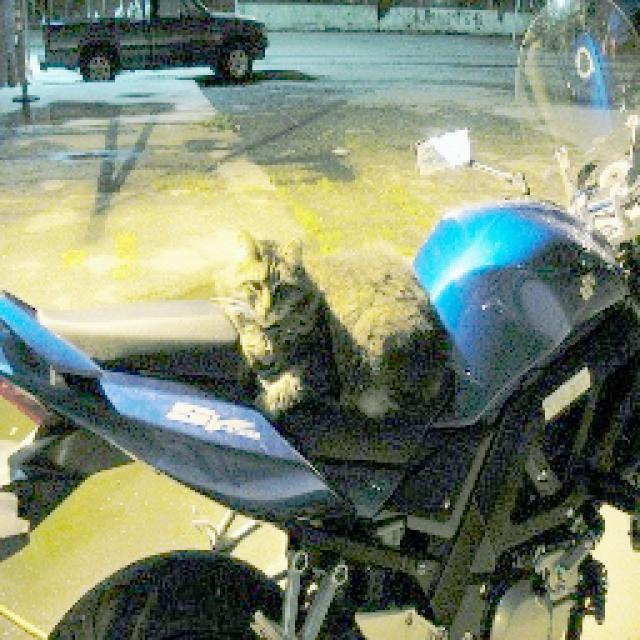cat: (217, 231, 447, 425)
